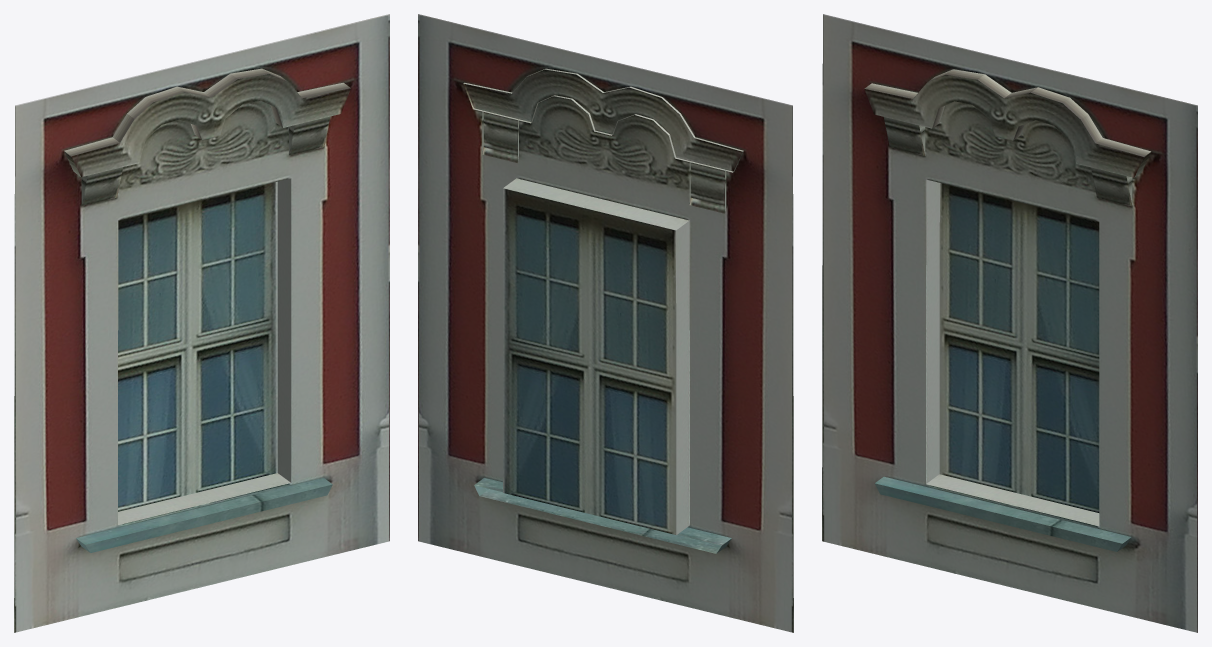
The model's file is fenster2.obj.
The picture shows the model from 3 angles, left to right: view 1: azimuth 30°, elevation 25°; view 2: azimuth 150°, elevation 25°; view 3: azimuth 330°, elevation 25°; orthographic projection.
Visible parts, largest first — view 1: polySurface51; view 2: polySurface51; view 3: polySurface51.
Part boxes in pixels (x1,y1,x2,y2): polySurface51: (14, 14, 389, 632); polySurface51: (418, 14, 793, 632); polySurface51: (822, 14, 1197, 632).
Size of the model in its own units: 0.3729 by 0.5 by 0.0392.
1 material, 1 textured.
